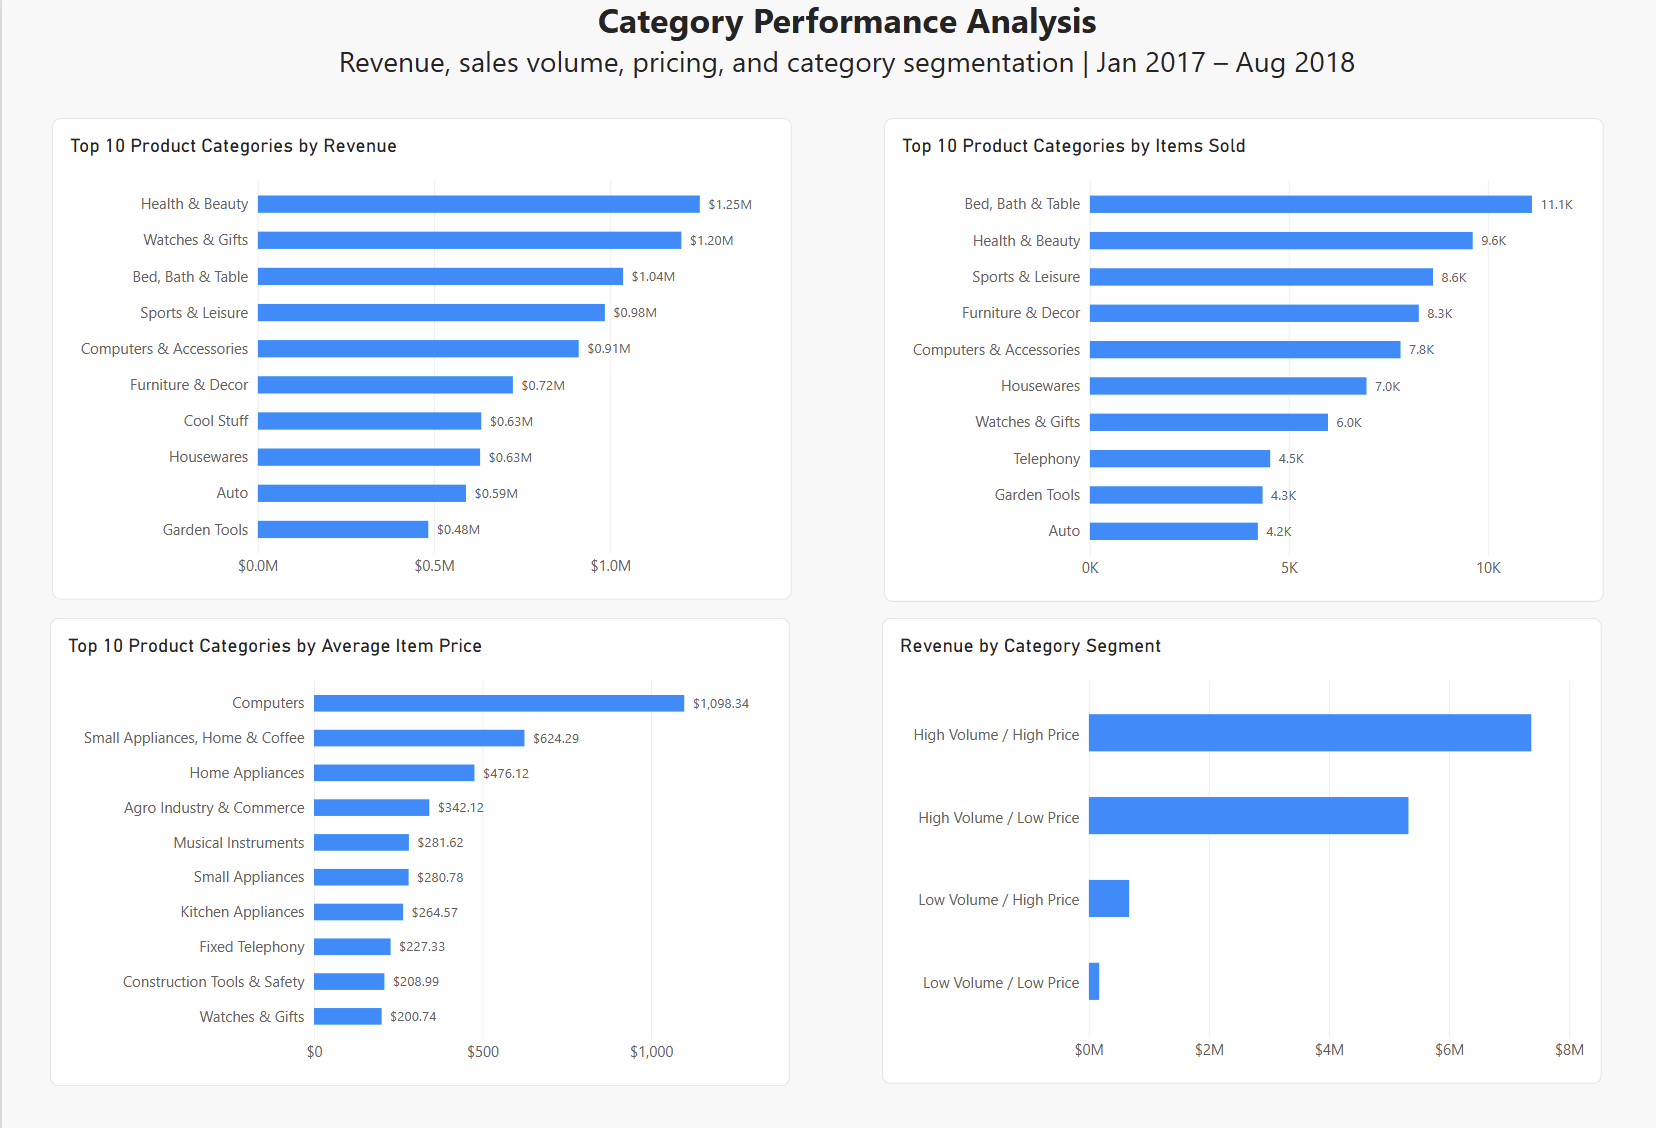

The page's visual inventory and layout, read from the dashboard file:
{"tool":"powerbi","page":{"name":"Category Analysis","canvas":[1920,1080],"ordinal":1},"visuals":[{"type":"clusteredBarChart","title":"Top 10 Product Categories by Revenue","fields":{"Category":["category_performance.Category Display"],"Y":["Sum(category_performance.revenue)"]},"box":[47.2,114.2,698.1,454.7],"z":0},{"type":"clusteredBarChart","title":"Top 10 Product Categories by Items Sold","fields":{"Category":["category_performance.Category Display"],"Y":["Sum(category_performance.items_sold)"]},"box":[832.1,114.2,679.2,456.6],"z":1000},{"type":"clusteredBarChart","title":"Top 10 Product Categories by Average Item Price","fields":{"Category":["category_performance.Category Display"],"Y":["Avg(category_performance.average_item_price)"]},"box":[45.3,586.8,698.1,441.5],"z":2000},{"type":"clusteredBarChart","title":"Revenue by Category Segment","fields":{"Category":["category_performance.category_segment"],"Y":["Sum(category_performance.revenue)"]},"box":[830.2,586.8,679.2,439.6],"z":3000},{"type":"textbox","box":[311.3,0,971.7,115.1],"z":3001}]}

Visuals, with their boxes on the page's 1920x1080 design canvas (x1, y1, x2, y2). These are canvas units, not pixel positions in the 1656x1128 screenshot, which may show the page scaled, cropped or inside an application window:
"Top 10 Product Categories by Revenue" clusteredBarChart: (left=47, top=114, right=745, bottom=569)
"Top 10 Product Categories by Items Sold" clusteredBarChart: (left=832, top=114, right=1511, bottom=571)
"Top 10 Product Categories by Average Item Price" clusteredBarChart: (left=45, top=587, right=743, bottom=1028)
"Revenue by Category Segment" clusteredBarChart: (left=830, top=587, right=1509, bottom=1026)
textbox: (left=311, top=0, right=1283, bottom=115)
